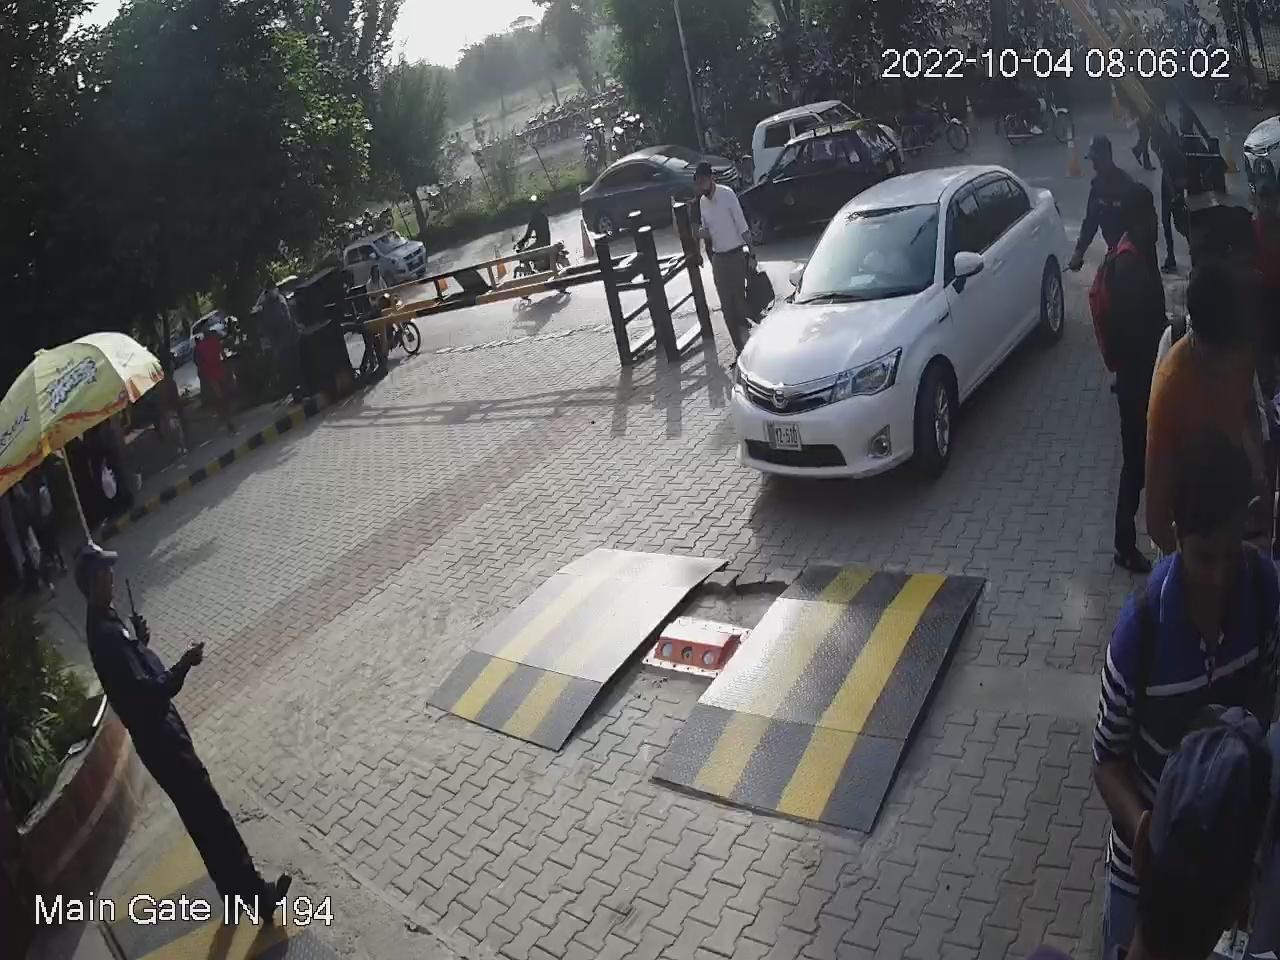windshield: (788, 195, 950, 310)
